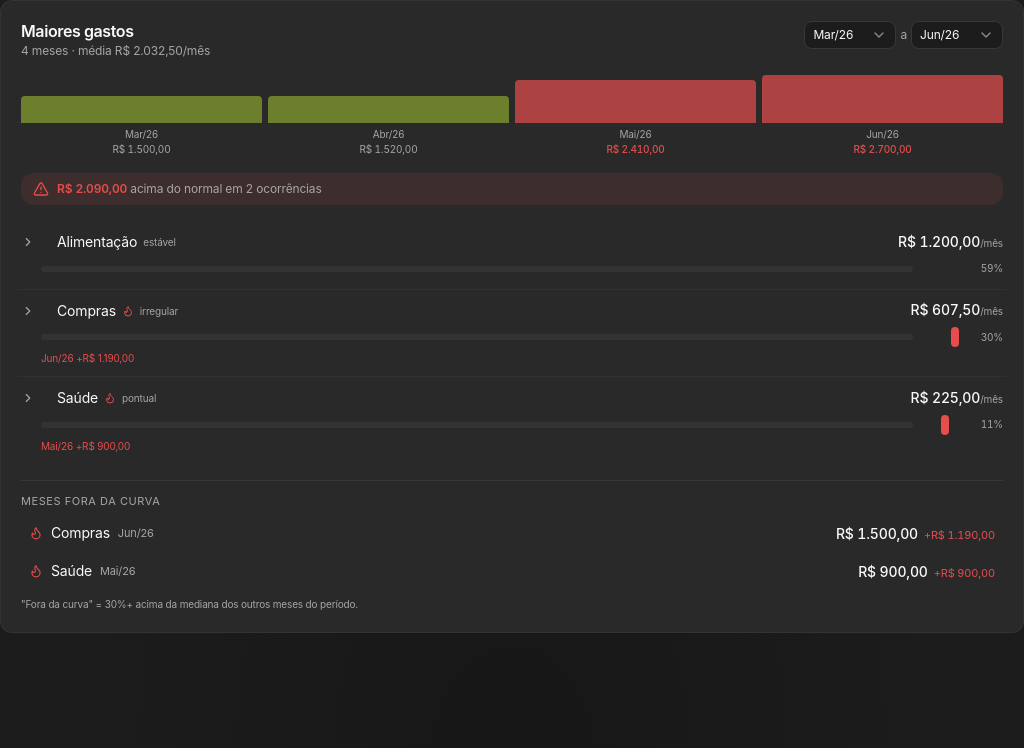
Test: <PicosGastos /> › expande a categoria mostrando totais por mês e lançamentos
expect the text "Totais por mês" is not shown: met
Click the button "Compras irregular R$ 607,50/mês" at (86, 310), box x1=21 y1=300 x2=1003 y2=327
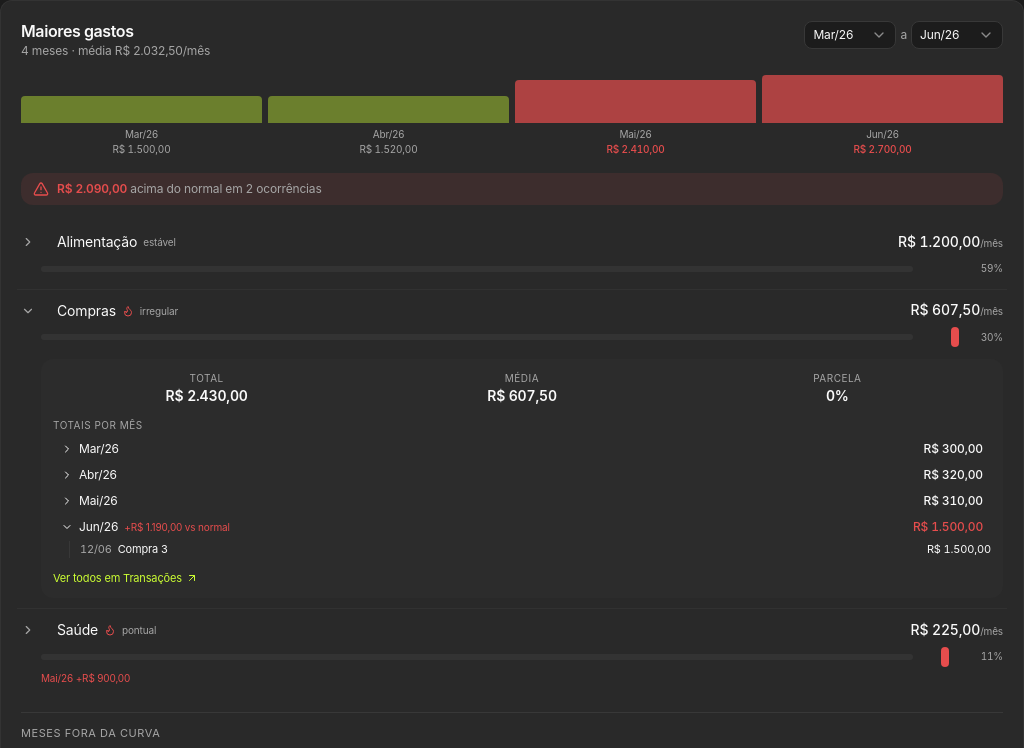
expect the text "Totais por mês" is shown: met, box x1=53 y1=419 x2=143 y2=431
expect the text "Compra 3" is shown: met, box x1=118 y1=541 x2=168 y2=558
expect the button "Ver todos em Transações" is shown: met, box x1=53 y1=570 x2=198 y2=586
